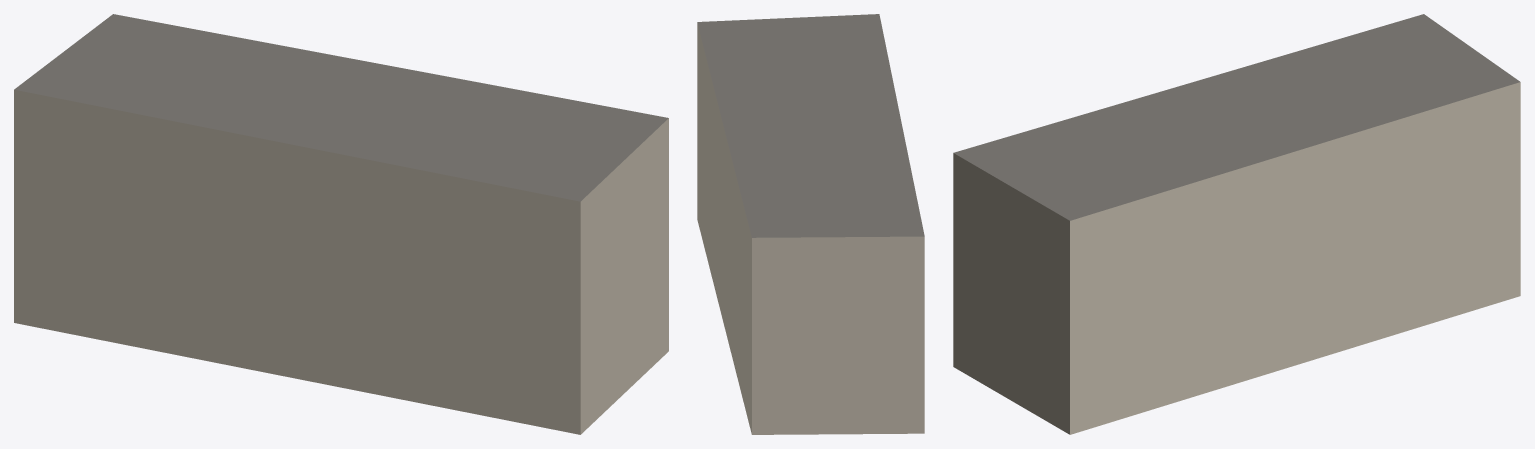
3 renders of one model, left to right at view 1: azimuth 30°, elevation 25°; view 2: azimuth 150°, elevation 25°; view 3: azimuth 270°, elevation 25°, orthographic. The views are drawn at different scales.
Visible parts, largest first — view 1: HP-w505633376; view 2: HP-w505633376; view 3: HP-w505633376.
Part boxes in pixels (left/top/right/bottom): HP-w505633376: left=14, top=14, right=668, bottom=434; HP-w505633376: left=697, top=14, right=924, bottom=434; HP-w505633376: left=953, top=14, right=1520, bottom=434.
Bounding box in the file's own units: 37.31 × 18 × 43.24.
